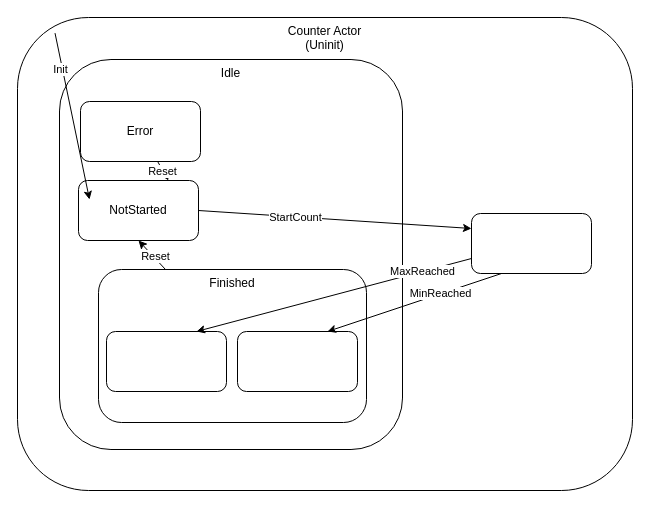
This 650x508 diagram has some shape labels left out. The centre of each missing label's shape, as x and y in pixels:
Counting: the point at 531,243
ReachedMax: the point at 166,361
ReachedMin: the point at 297,361
